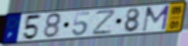5: (22, 14, 42, 41), (71, 11, 91, 37)
8: (42, 12, 63, 40), (124, 8, 142, 33)
M: (141, 4, 172, 33)
Z: (91, 8, 118, 36)
